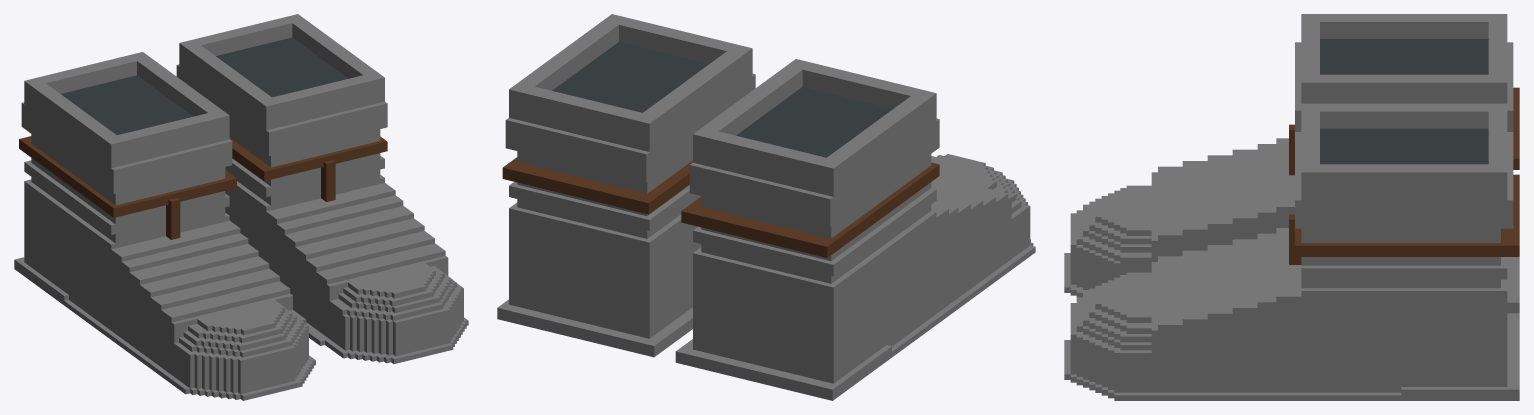
Rendered from chainmail_chausses.glb.
3 renders of one model, left to right at view 1: azimuth 30°, elevation 25°; view 2: azimuth 150°, elevation 25°; view 3: azimuth 270°, elevation 25°, orthographic. The views are drawn at different scales.
Parts seen in each view (by area): view 1: chainmail_chausses:compound; view 2: chainmail_chausses:compound; view 3: chainmail_chausses:compound.
Part boxes in pixels (x1,y1,x2,y2): chainmail_chausses:compound: (14,14,468,400); chainmail_chausses:compound: (497,14,1035,400); chainmail_chausses:compound: (1064,14,1519,400).
Size of the model in its own units: 0.248 by 0.16 by 0.292.
